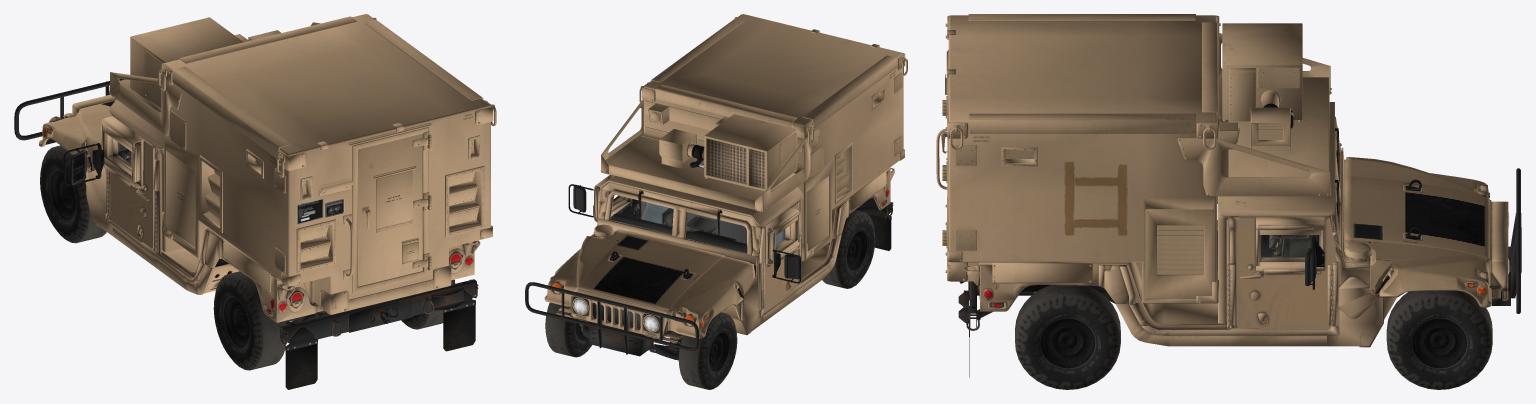
The model's file is ligero-hmmwv.glb.
3 renders of one model, left to right at view 1: azimuth 30°, elevation 25°; view 2: azimuth 150°, elevation 25°; view 3: azimuth 270°, elevation 25°, orthographic. The views are drawn at different scales.
Visible parts, largest first — view 1: Object_2, Object_3, Object_10, Object_4, Object_6, Object_9; view 2: Object_2, Object_10, Object_3, Object_6, Object_4, Object_9, Object_5, Object_8, Object_7; view 3: Object_2, Object_10, Object_3, Object_6, Object_9, Object_4, Object_8.
Part boxes in pixels (x1,y1,x2,y2): Object_2: (109, 14, 490, 314); Object_3: (109, 14, 496, 314); Object_10: (39, 100, 480, 322); Object_4: (14, 79, 478, 389); Object_6: (40, 145, 455, 370); Object_9: (64, 116, 152, 248); Object_2: (600, 14, 903, 261); Object_10: (544, 168, 894, 338); Object_3: (600, 14, 907, 277); Object_6: (545, 210, 875, 389); Object_4: (525, 188, 893, 360); Object_9: (568, 174, 801, 310); Object_5: (613, 202, 784, 252); Object_8: (610, 197, 746, 253); Object_7: (598, 189, 796, 263); Object_2: (945, 15, 1331, 303); Object_10: (963, 116, 1491, 347); Object_3: (936, 14, 1334, 325); Object_6: (1015, 285, 1492, 389); Object_9: (1236, 217, 1335, 329); Object_4: (958, 168, 1521, 377); Object_8: (1217, 230, 1310, 273).
Size of the model in its own units: 4.2 by 3.44 by 6.66.
7 materials, 7 textured.
